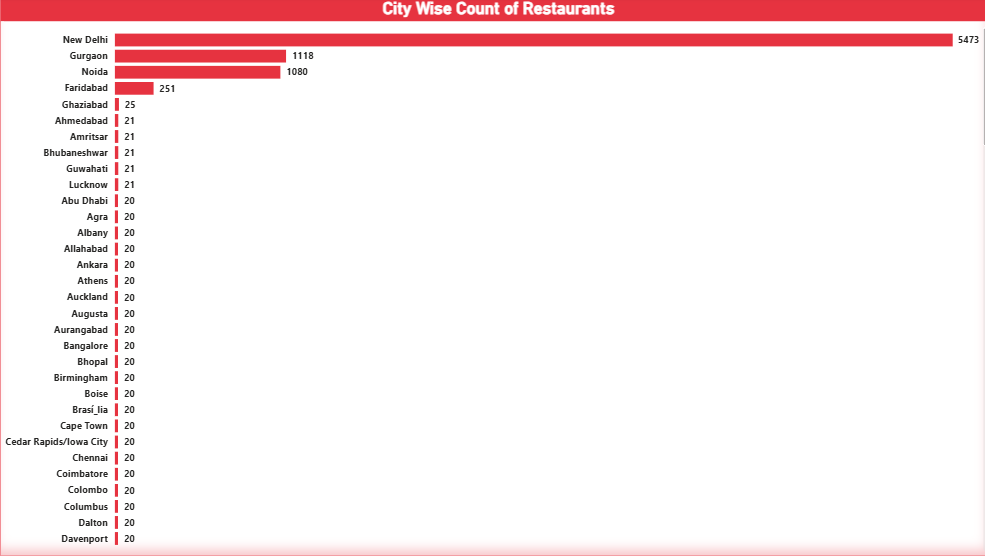

Layout of this report page (visuals, bound fields, positions):
{"tool":"powerbi","page":{"name":"Page 3","canvas":[1280,720],"ordinal":2},"visuals":[{"type":"clusteredBarChart","title":"City Wise Count of  Restaurants","fields":{"Category":["Sheet1.City"],"Y":["Count(Sheet1.RestaurantID)"]},"box":[0,0,1280,719.7],"z":0}]}

Visuals, with their boxes in screenshot pixels (x1, y1, x2, y2), scaled from the page's 1280x720 canvas onto the 985x556 screenshot:
"City Wise Count of  Restaurants" clusteredBarChart: x1=0 y1=0 x2=984 y2=555
